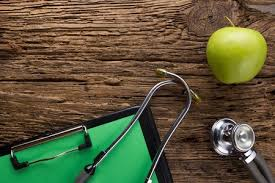apple: (204, 27, 266, 87)
